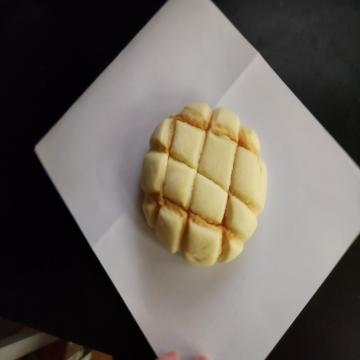melon_bread: (140, 101, 268, 273)
